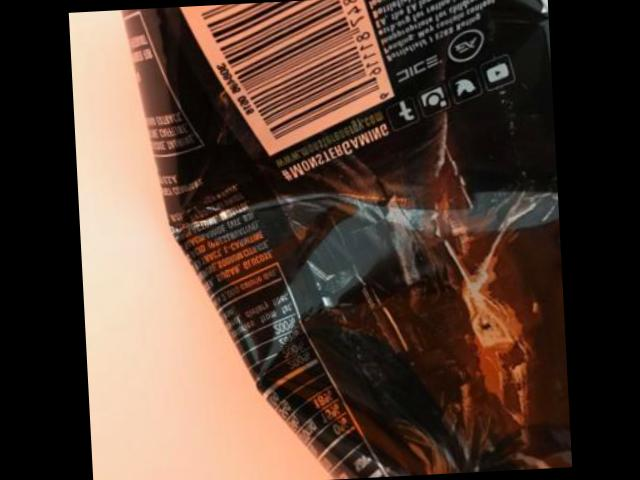metal: (120, 0, 568, 480)
